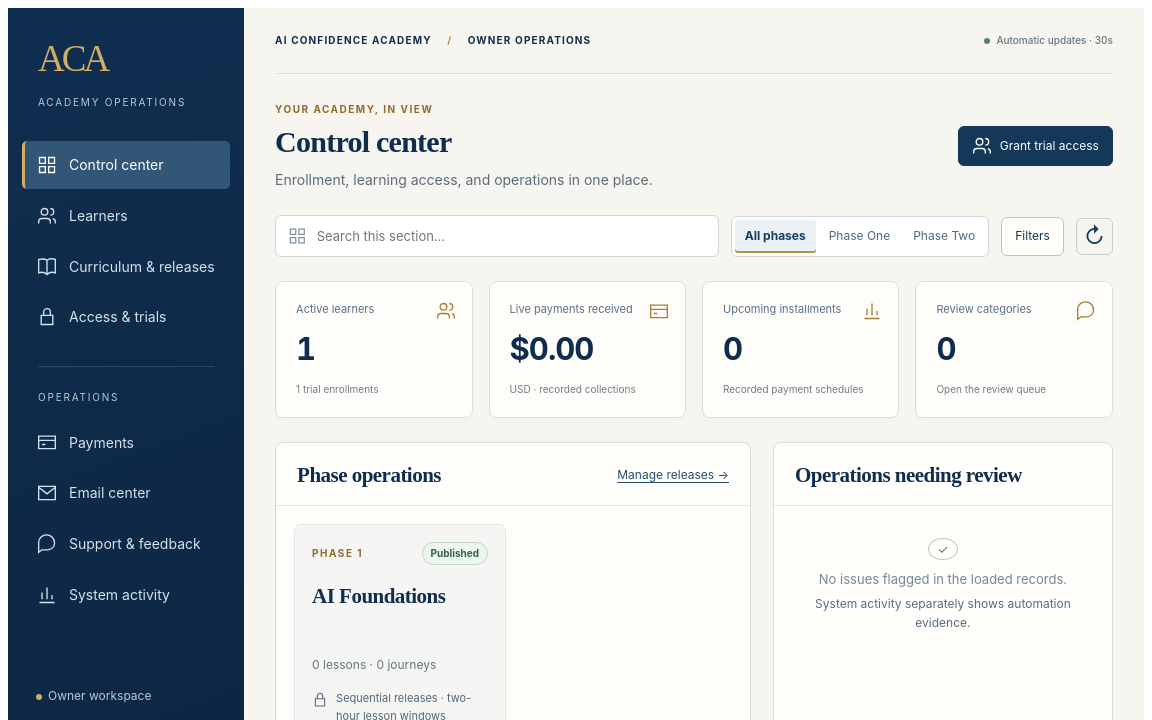
Test: reviews the recipient and dates before sending the invitation directly by email
Expected: the heading "Phase operations" is shown, x1=297 y1=462 x2=441 y2=489
Click the button "Grant trial access" at (1035, 146), box x1=958 y1=126 x2=1113 y2=166
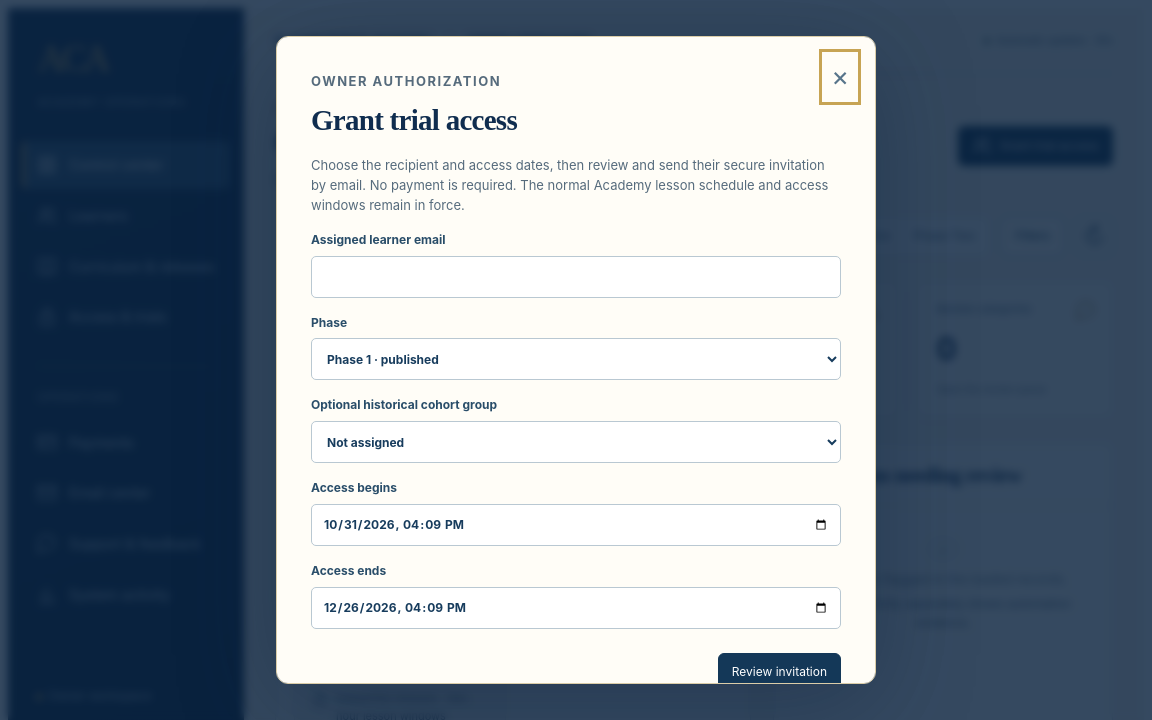
Type "invited@example.com" into the field labelled "Assigned learner email" at (576, 277), box x1=311 y1=256 x2=841 y2=298
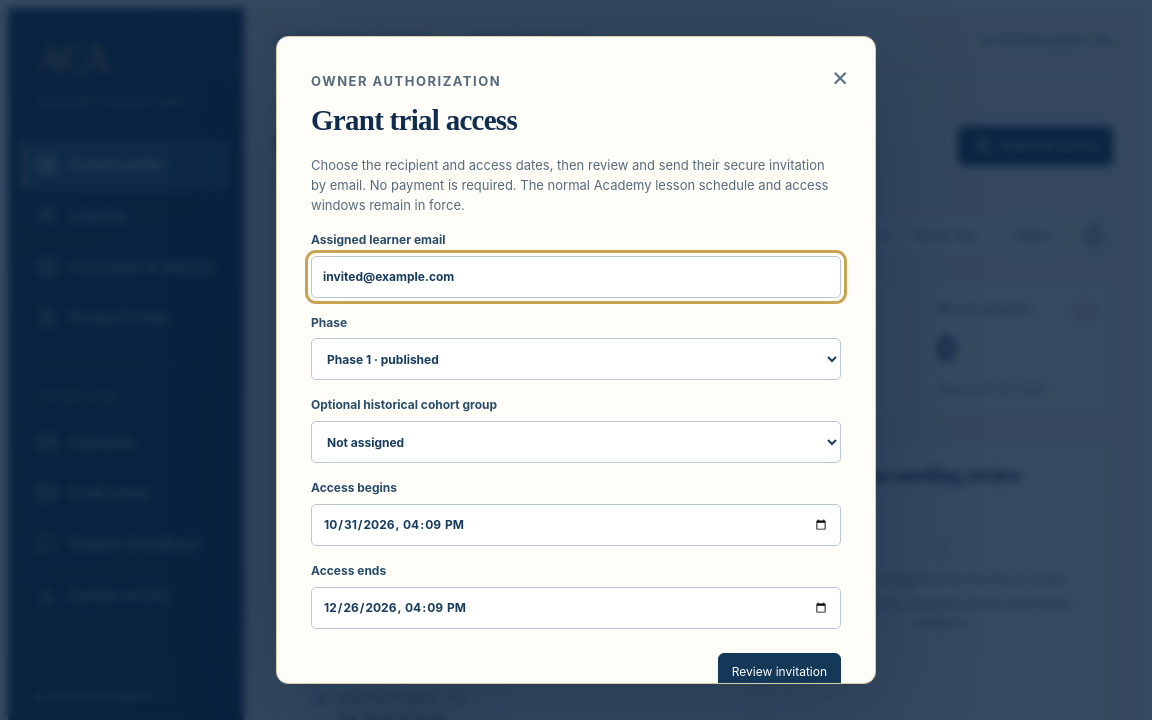
Replace the text in the field labelled "Access begins" with "2090-01-01T09:00" at (576, 525), box x1=311 y1=504 x2=841 y2=546
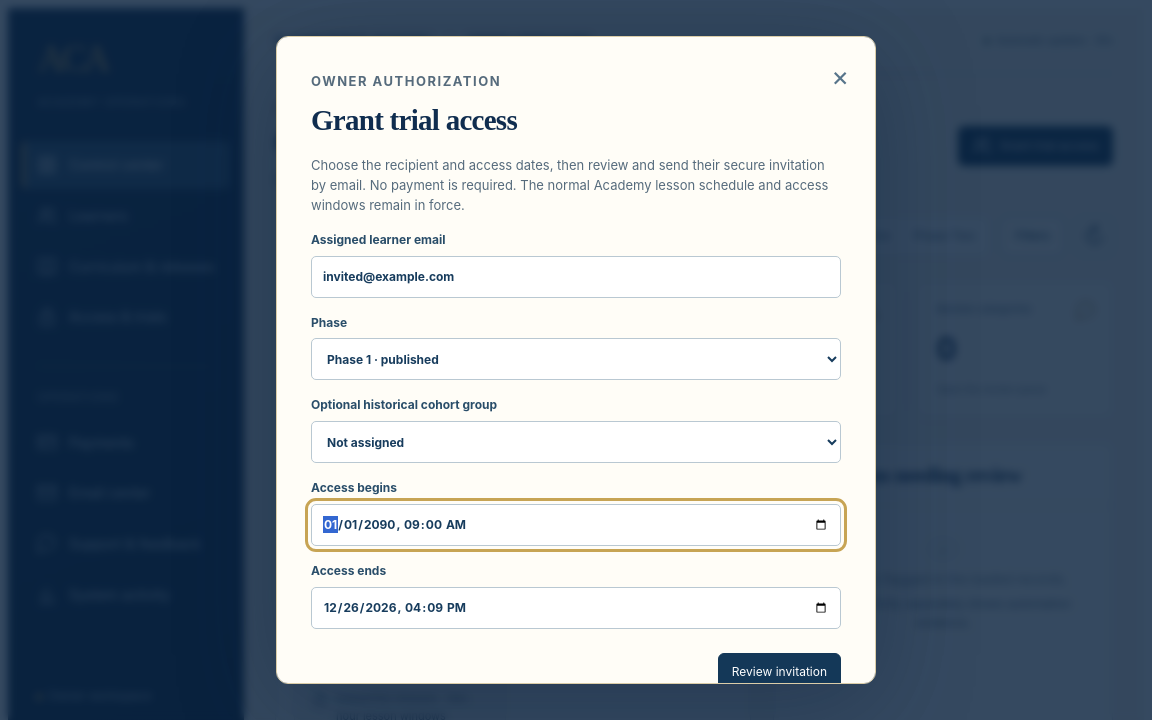
Replace the text in the field labelled "Access ends" with "2090-02-01T09:00" at (576, 608), box x1=311 y1=587 x2=841 y2=629
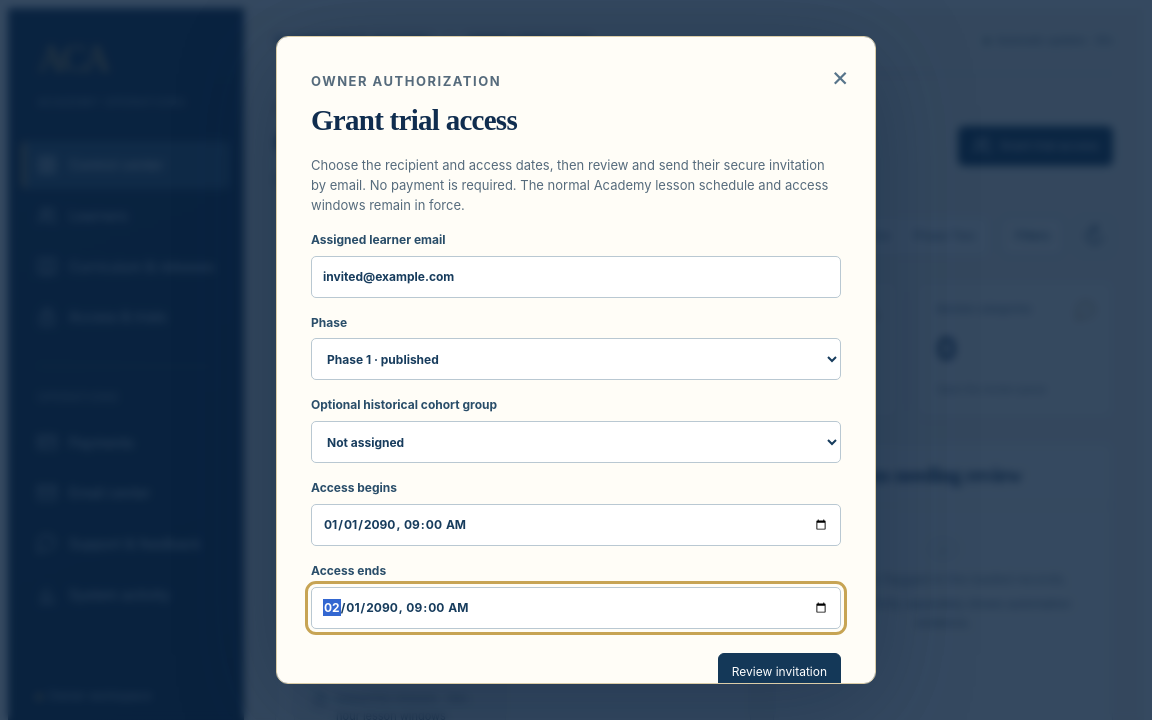
Click the button "Review invitation" at (779, 673), box x1=718 y1=653 x2=841 y2=692
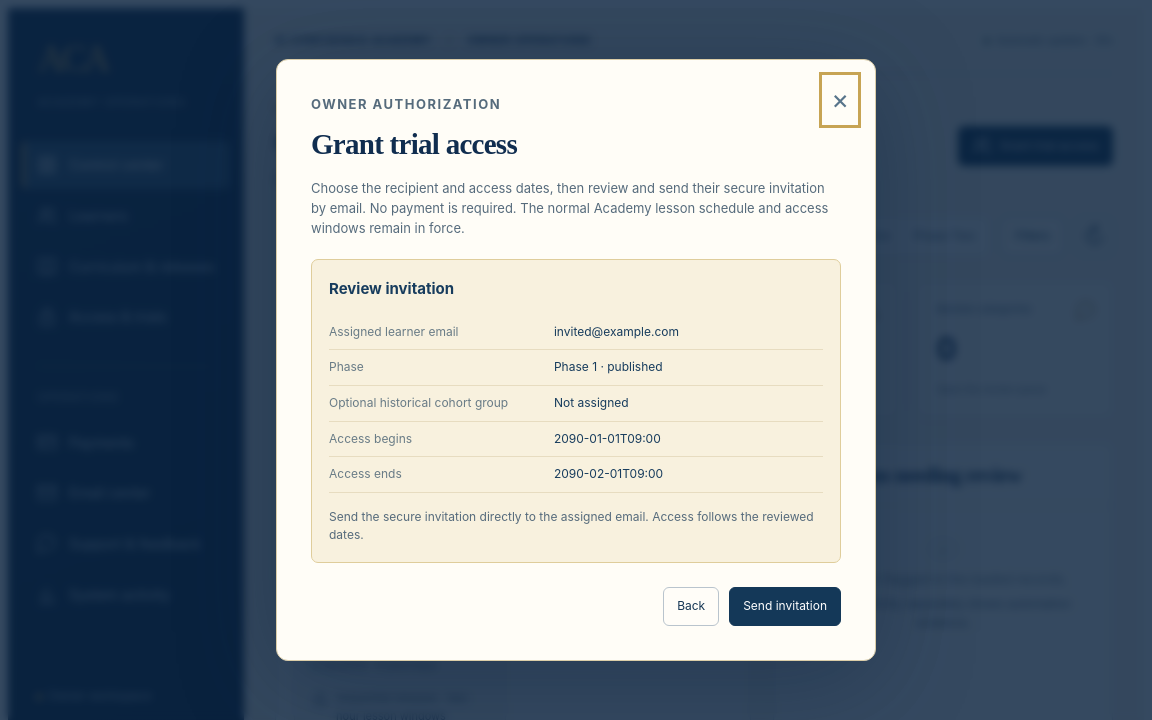
Result: the text "Send the secure invitation directly to the assigned email. Access follows the reviewed dates." is shown at x1=329 y1=509 x2=814 y2=542
Click the button "Send invitation" at (785, 606), box x1=729 y1=587 x2=841 y2=626
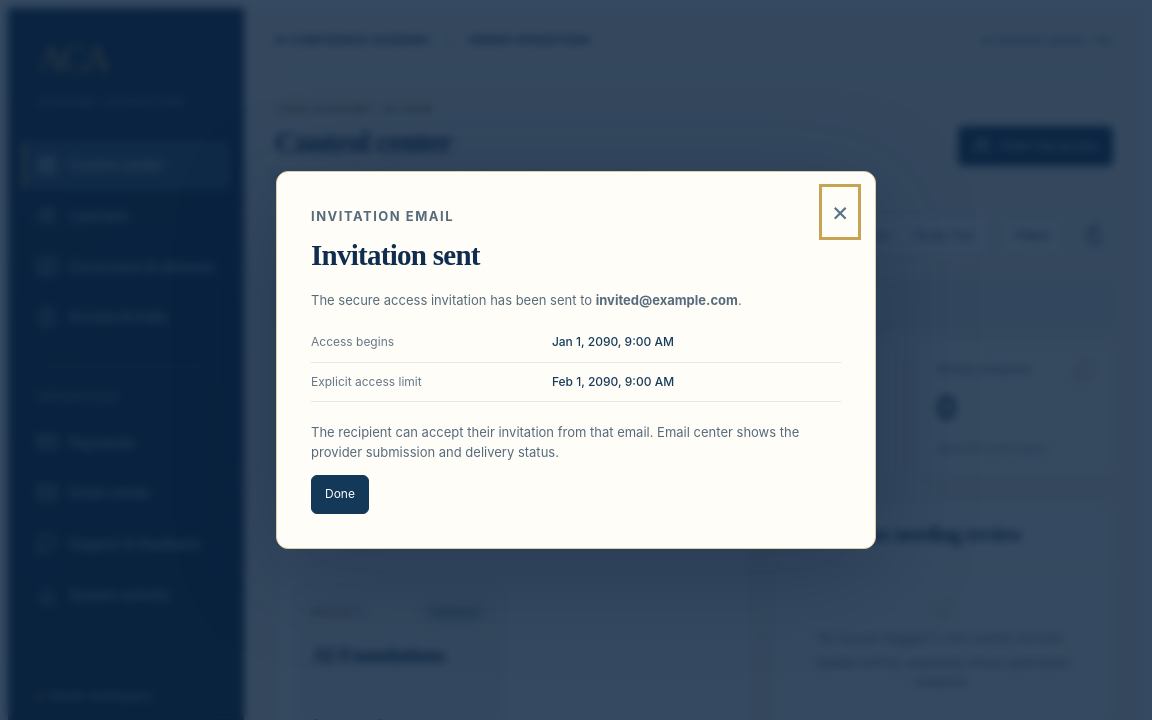
Result: the heading "Invitation sent" is shown at x1=311 y1=239 x2=480 y2=271
Result: the text "invited@example.com" is shown at x1=596 y1=292 x2=738 y2=308
